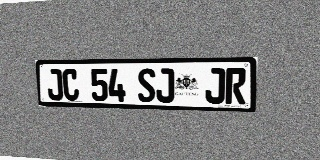4: (108, 68, 126, 102)
5: (90, 69, 108, 101)
C: (62, 69, 79, 101)
J: (205, 68, 225, 104), (156, 68, 174, 103), (46, 69, 63, 100)
R: (225, 68, 246, 104)
S: (137, 68, 155, 102)
